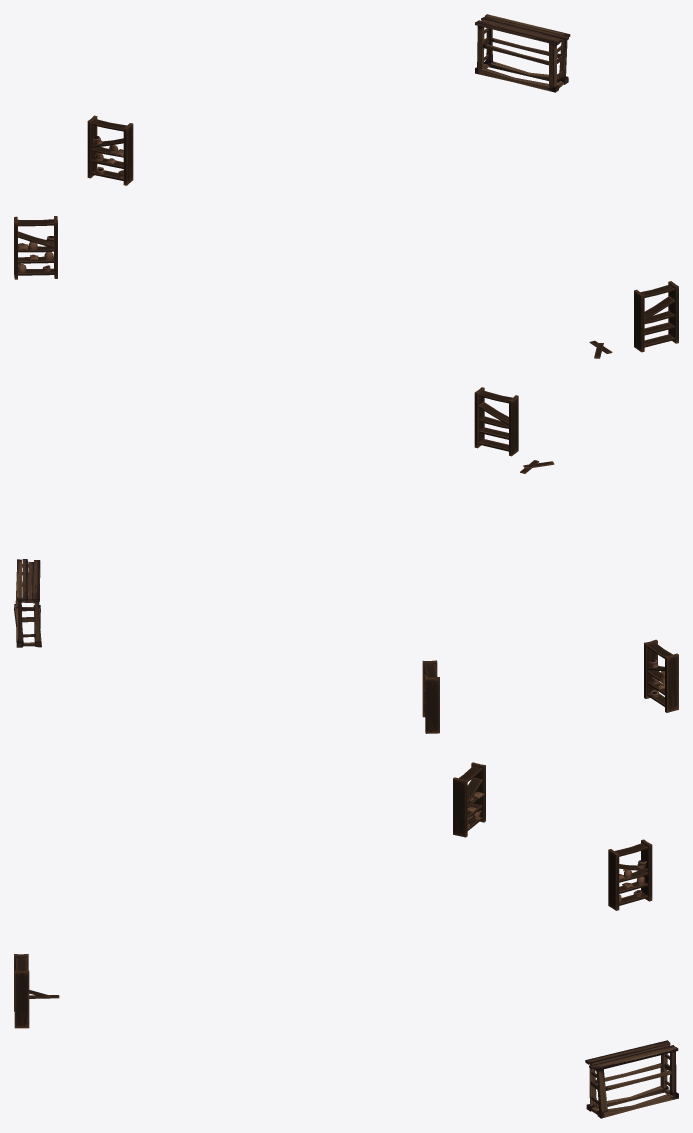
File: Estantes.fbx
3 views of the same model, one above another, from view 1: azimuth 30°, elevation 25°; view 2: azimuth 150°, elevation 25°; view 3: azimuth 270°, elevation 25° (orthographic). The views are drawn at different scales.
Parts seen in each view (by area): view 1: SM_PROP_barrel_shelf_dungeon_02.001, SM_PROP_sack_dungeon_04.001, SM_PROP_bookshelf_dungeon_04.001, SM_PROP_sack_dungeon_02.001; view 2: SM_PROP_bookshelf_dungeon_04.001, SM_PROP_sack_dungeon_02.001, SM_PROP_barrel_shelf_dungeon_02.001, SM_PROP_sack_dungeon_04.001; view 3: SM_PROP_barrel_shelf_dungeon_02.001, SM_PROP_sack_dungeon_04.001, SM_PROP_sack_dungeon_02.001, SM_PROP_bookshelf_dungeon_04.001.
Part boxes in pixels (<box>): SM_PROP_barrel_shelf_dungeon_02.001: <box>475,14,570,92</box>; SM_PROP_sack_dungeon_04.001: <box>87,115,133,185</box>; SM_PROP_bookshelf_dungeon_04.001: <box>634,281,678,352</box>; SM_PROP_sack_dungeon_02.001: <box>14,216,57,279</box>; SM_PROP_bookshelf_dungeon_04.001: <box>474,387,518,456</box>; SM_PROP_sack_dungeon_02.001: <box>644,639,678,712</box>; SM_PROP_barrel_shelf_dungeon_02.001: <box>14,559,41,647</box>; SM_PROP_sack_dungeon_04.001: <box>422,660,439,733</box>; SM_PROP_barrel_shelf_dungeon_02.001: <box>585,1040,678,1118</box>; SM_PROP_sack_dungeon_04.001: <box>608,839,652,910</box>; SM_PROP_sack_dungeon_02.001: <box>453,762,485,837</box>; SM_PROP_bookshelf_dungeon_04.001: <box>14,954,29,1028</box>.
Bounding box in the file's own units: 35.74 × 3.18 × 33.54.
5 materials, 5 textured.
